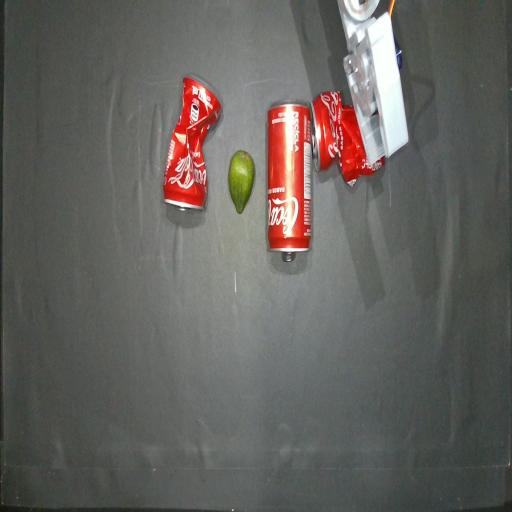higo: (228, 150, 254, 212)
lata: (266, 101, 314, 262)
lata_defectuoso: (163, 75, 221, 210), (311, 92, 385, 186)
